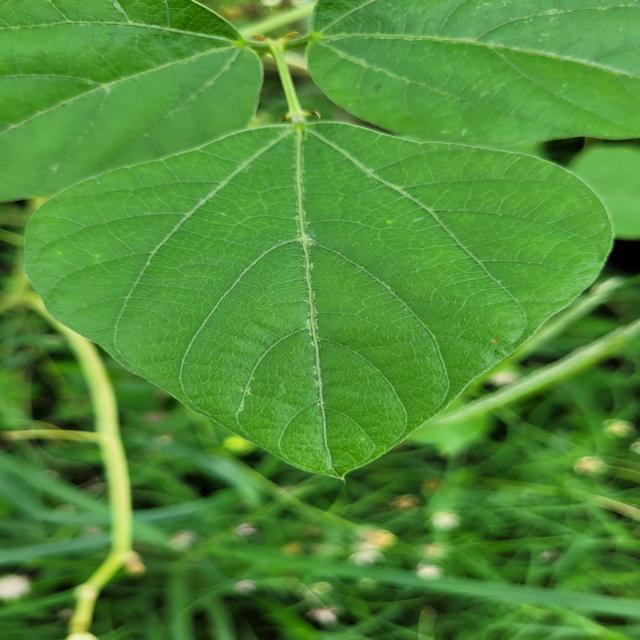Dolicos bean_healthy: (15, 115, 623, 477), (294, 0, 640, 243), (0, 0, 268, 218)
